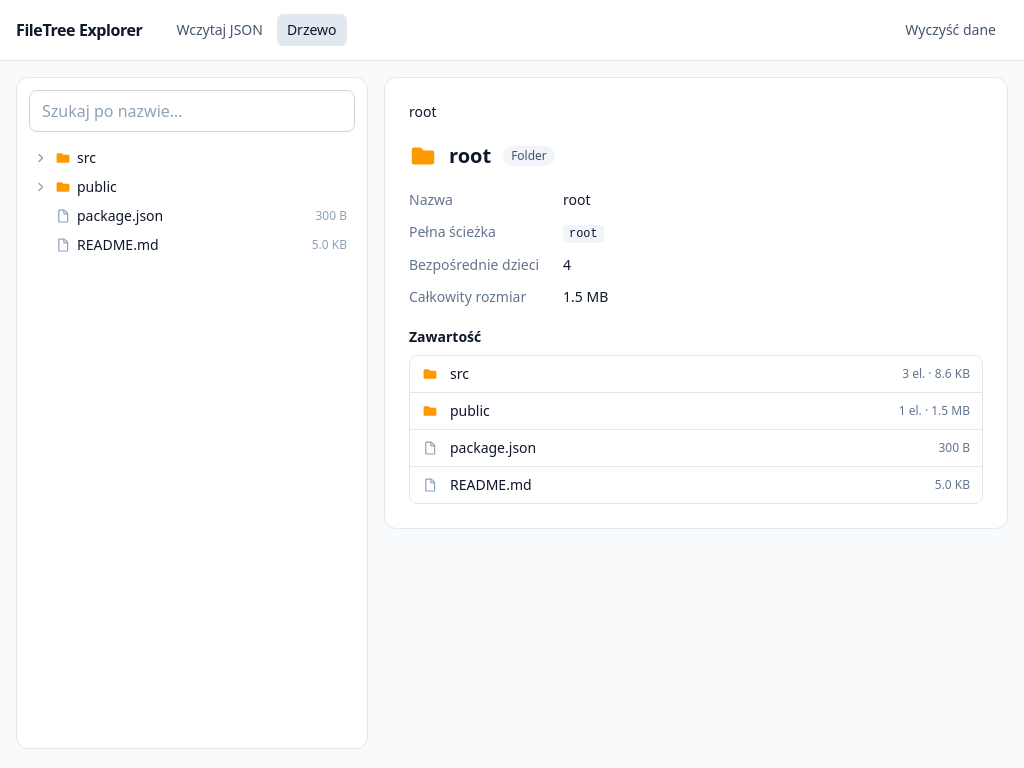
search › stores the query in the URL and shows full paths of results
Type "button" into the search field. click: (192, 111)
box: [29, 90, 355, 132]
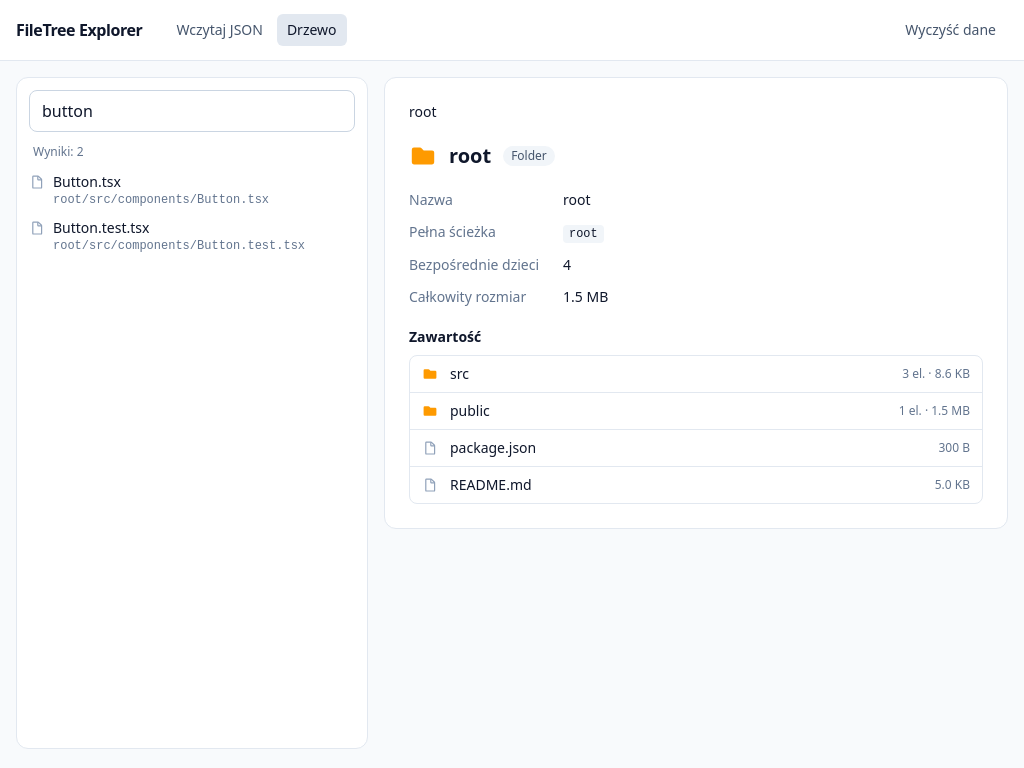
Expected: the links read "Button.tsxroot/src/components/Button.tsx", "Button.test.tsxroot/src/components/Button.test.tsx", in this order, [29, 172, 269, 207]; [29, 218, 305, 253]
